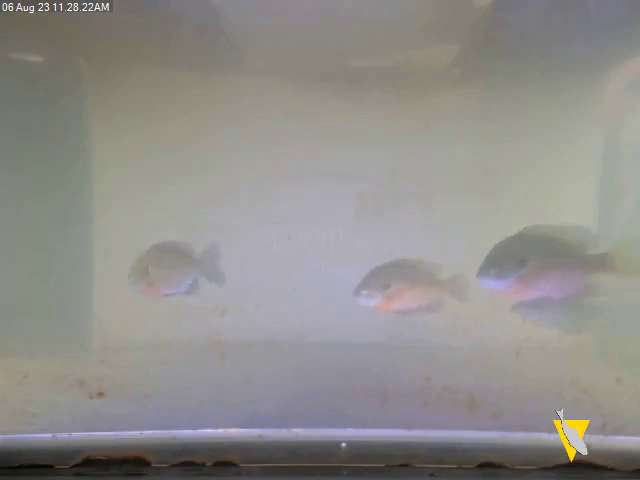\uBE14\uB8E8\uAE38: (475, 212, 640, 301), (344, 248, 473, 326), (120, 230, 234, 311)
